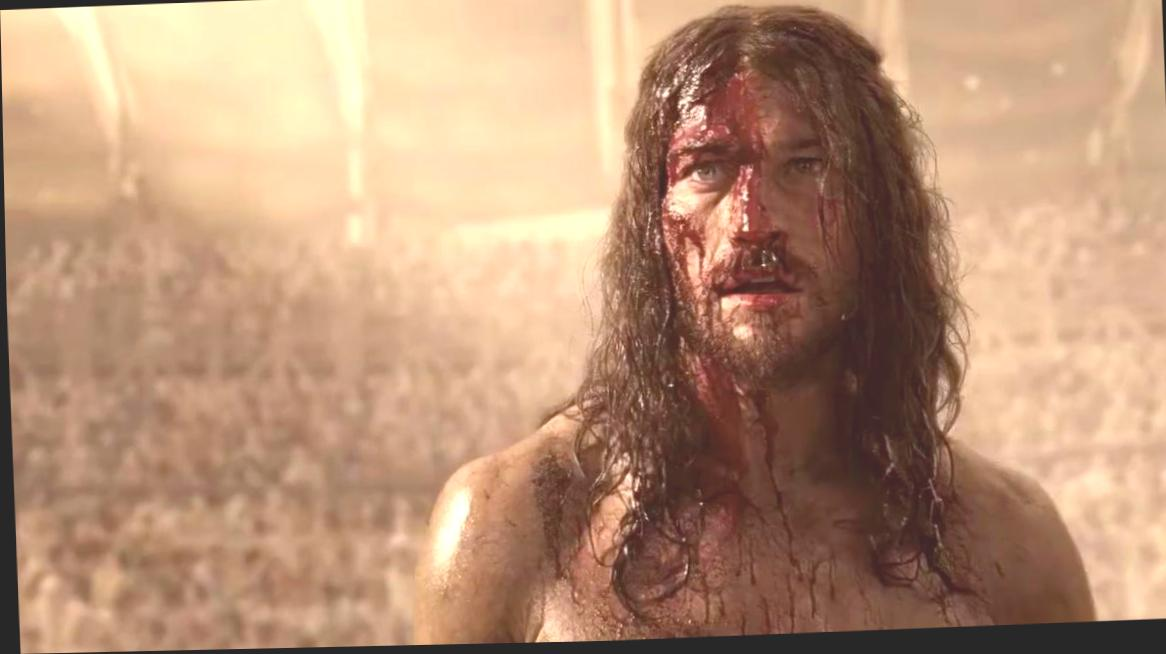Fire: (660, 71, 857, 380)
